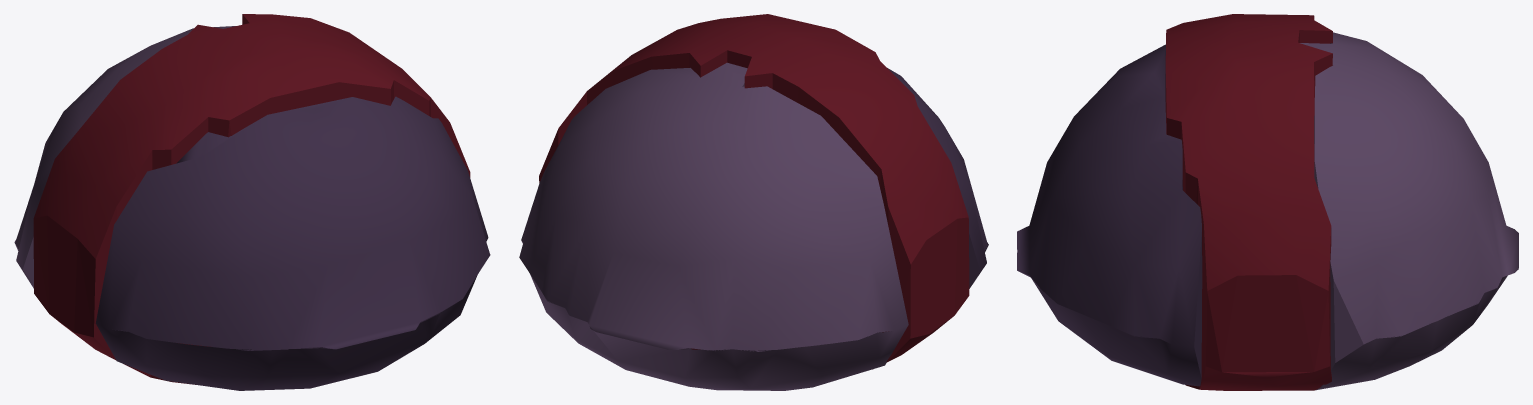
Rendered from newsh5-47.glb.
3 views of the same model, side by side, from view 1: azimuth 30°, elevation 25°; view 2: azimuth 150°, elevation 25°; view 3: azimuth 270°, elevation 25° (orthographic). The views are drawn at different scales.
Visible parts, largest first — view 1: proto-newsh5-47; view 2: proto-newsh5-47; view 3: proto-newsh5-47.
Part boxes in pixels (x1,y1,x2,y2): proto-newsh5-47: [14, 14, 490, 390]; proto-newsh5-47: [519, 14, 988, 390]; proto-newsh5-47: [1017, 14, 1518, 390].
Bounding box in the file's own units: 2.02 × 1.56 × 2.25.
